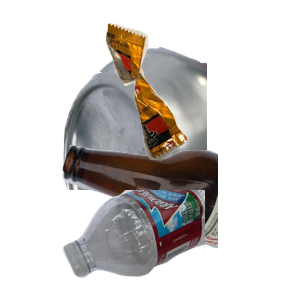glass: (60, 142, 300, 300)
metal: (60, 44, 300, 224)
plastic: (60, 190, 300, 280)
trash: (103, 21, 300, 174)
